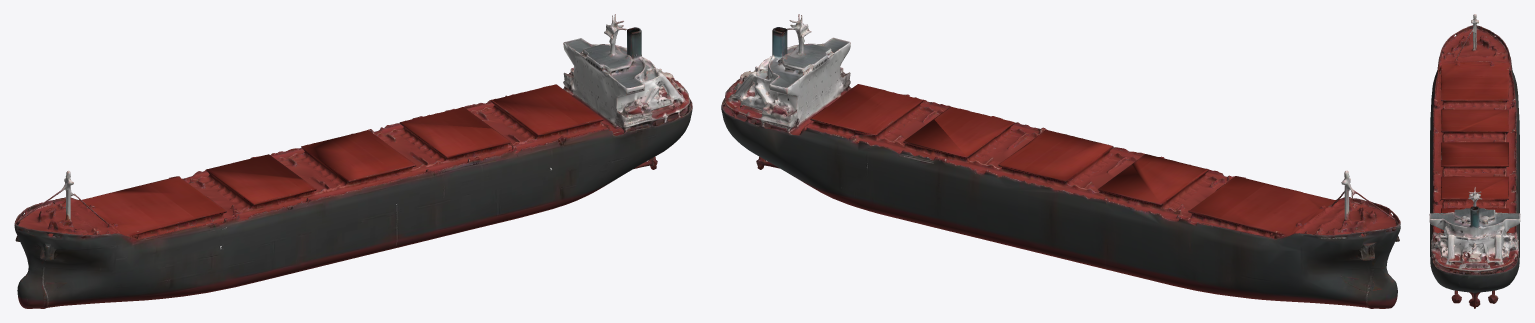
The model's file is vessel.glb.
The picture shows the model from 3 angles, left to right: view 1: azimuth 30°, elevation 25°; view 2: azimuth 150°, elevation 25°; view 3: azimuth 270°, elevation 25°; orthographic projection. The views are drawn at different scales.
Parts seen in each view (by area): view 1: Mesh_0; view 2: Mesh_0; view 3: Mesh_0.
Boxes of the visible parts, left/top/right/bottom form: Mesh_0: left=14, top=14, right=692, bottom=308; Mesh_0: left=721, top=14, right=1400, bottom=308; Mesh_0: left=1429, top=14, right=1520, bottom=308.
Size of the model in its own units: 1.9 by 0.4269 by 0.3161.
Materials: 1 (1 with a texture image).
